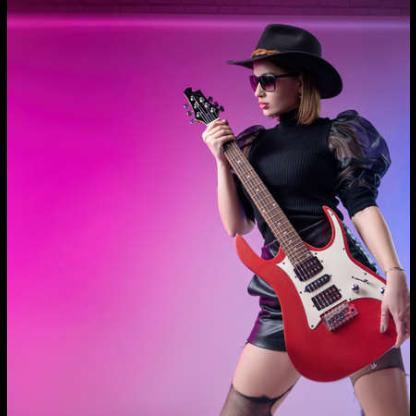guitar: (181, 86, 405, 382)
